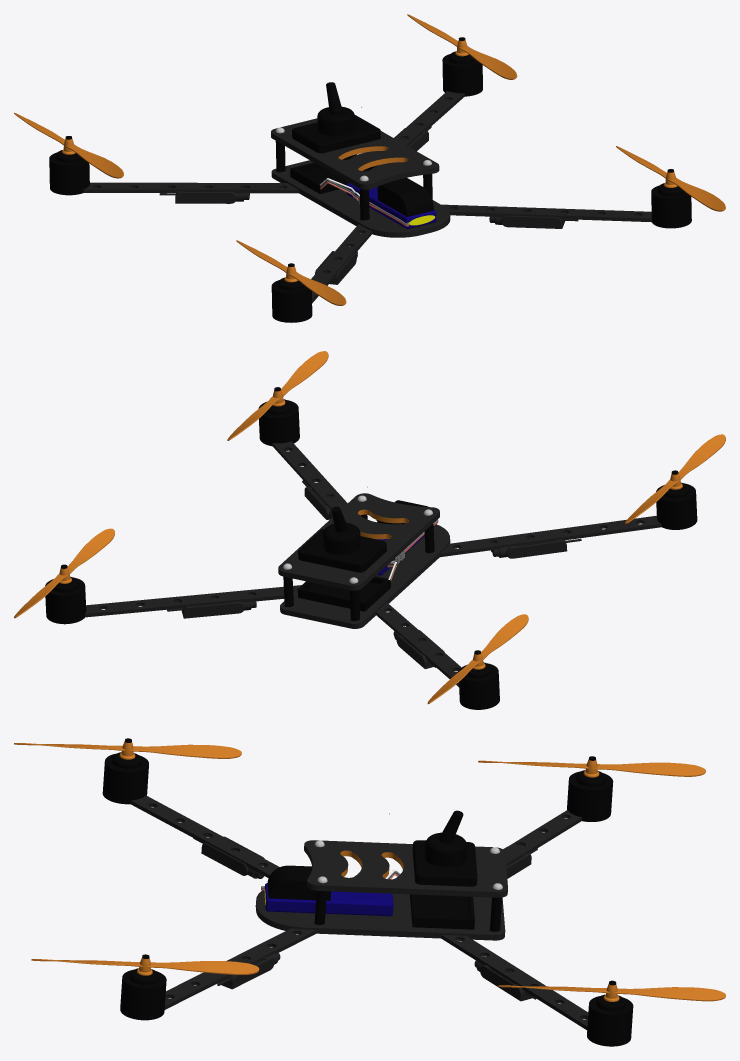
Rendered from quad_3.glb.
3 renders of one model, top to bottom at view 1: azimuth 30°, elevation 25°; view 2: azimuth 150°, elevation 25°; view 3: azimuth 270°, elevation 25°, orthographic. The views are drawn at different scales.
Visible parts, largest first — view 1: Body2, Body1__0.002, Body81, Body59, Body55, Body57, Body77, Body62, Body1_Paint - Enamel Glossy (Yellow)_0.001, Body1_Paint - Enamel Glossy (Yellow)_0.002, Body1, Body1_Paint - Enamel Glossy (Yellow)_0.003 (+5 smaller); view 2: Body2, Body1__0.002, Body81, Body76, Body57, Body62, Body55, Body59, Body1_Paint - Enamel Glossy (Yellow)_0.003, Body1_Paint - Enamel Glossy (Yellow)_0.001, Body1_Paint - Enamel Glossy (Yellow)_0.002, Body1 (+2 smaller); view 3: Body2, Body1__0.002, Body81, Body1_Opaque(26,26,26)_0, Body76, Body59, Body62, Body55, Body57, Body1, Body1_Paint - Enamel Glossy (Yellow)_0.003, Body1_Paint - Enamel Glossy (Yellow)_0.001 (+5 smaller).
Part boxes in pixels (x1=…): Body2: x1=83, y1=91, x2=651, y2=303; Body1__0.002: x1=271, y1=118, x2=439, y2=189; Body81: x1=292, y1=106, x2=380, y2=153; Body59: x1=651, y1=169, x2=691, y2=228; Body55: x1=271, y1=263, x2=312, y2=322; Body57: x1=49, y1=136, x2=89, y2=195; Body77: x1=377, y1=177, x2=433, y2=216; Body62: x1=442, y1=37, x2=482, y2=96; Body1_Paint - Enamel Glossy (Yellow)_0.001: x1=616, y1=146, x2=725, y2=211; Body1_Paint - Enamel Glossy (Yellow)_0.002: x1=236, y1=240, x2=346, y2=305; Body1: x1=407, y1=14, x2=517, y2=79; Body1_Paint - Enamel Glossy (Yellow)_0.003: x1=14, y1=112, x2=123, y2=178; Body2: x1=85, y1=441, x2=661, y2=686; Body1__0.002: x1=278, y1=493, x2=439, y2=590; Body81: x1=298, y1=522, x2=386, y2=572; Body76: x1=297, y1=576, x2=390, y2=611; Body57: x1=458, y1=650, x2=499, y2=709; Body62: x1=45, y1=564, x2=86, y2=624; Body55: x1=656, y1=470, x2=697, y2=529; Body59: x1=258, y1=387, x2=299, y2=446; Body1_Paint - Enamel Glossy (Yellow)_0.003: x1=427, y1=614, x2=528, y2=703; Body1_Paint - Enamel Glossy (Yellow)_0.001: x1=227, y1=351, x2=328, y2=440; Body1_Paint - Enamel Glossy (Yellow)_0.002: x1=625, y1=434, x2=725, y2=524; Body1: x1=14, y1=528, x2=114, y2=618; Body2: x1=130, y1=795, x2=588, y2=1030; Body1__0.002: x1=304, y1=840, x2=507, y2=897; Body81: x1=412, y1=832, x2=477, y2=886; Body1_Opaque(26,26,26)_0: x1=264, y1=883, x2=393, y2=916; Body76: x1=410, y1=894, x2=474, y2=929; Body59: x1=120, y1=954, x2=166, y2=1020; Body62: x1=587, y1=980, x2=633, y2=1046; Body55: x1=102, y1=738, x2=148, y2=804; Body57: x1=567, y1=756, x2=613, y2=821; Body1: x1=498, y1=983, x2=725, y2=1001; Body1_Paint - Enamel Glossy (Yellow)_0.003: x1=478, y1=759, x2=705, y2=777; Body1_Paint - Enamel Glossy (Yellow)_0.001: x1=31, y1=957, x2=259, y2=975.
Bounding box in the file's own units: 1353 × 327 × 1722.
